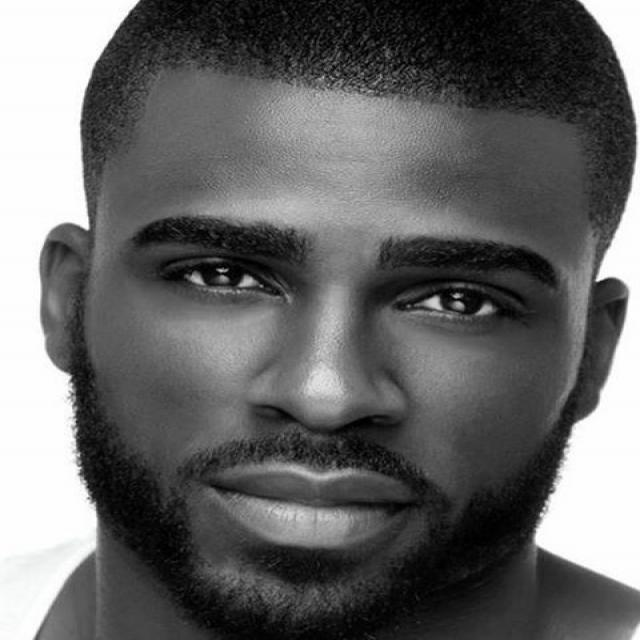earlobe: (48, 325, 84, 376), (568, 370, 600, 426)
eye: (167, 260, 275, 294), (408, 285, 508, 319)
nose: (243, 403, 408, 476)
wholeear: (569, 277, 630, 425), (37, 222, 89, 376)
